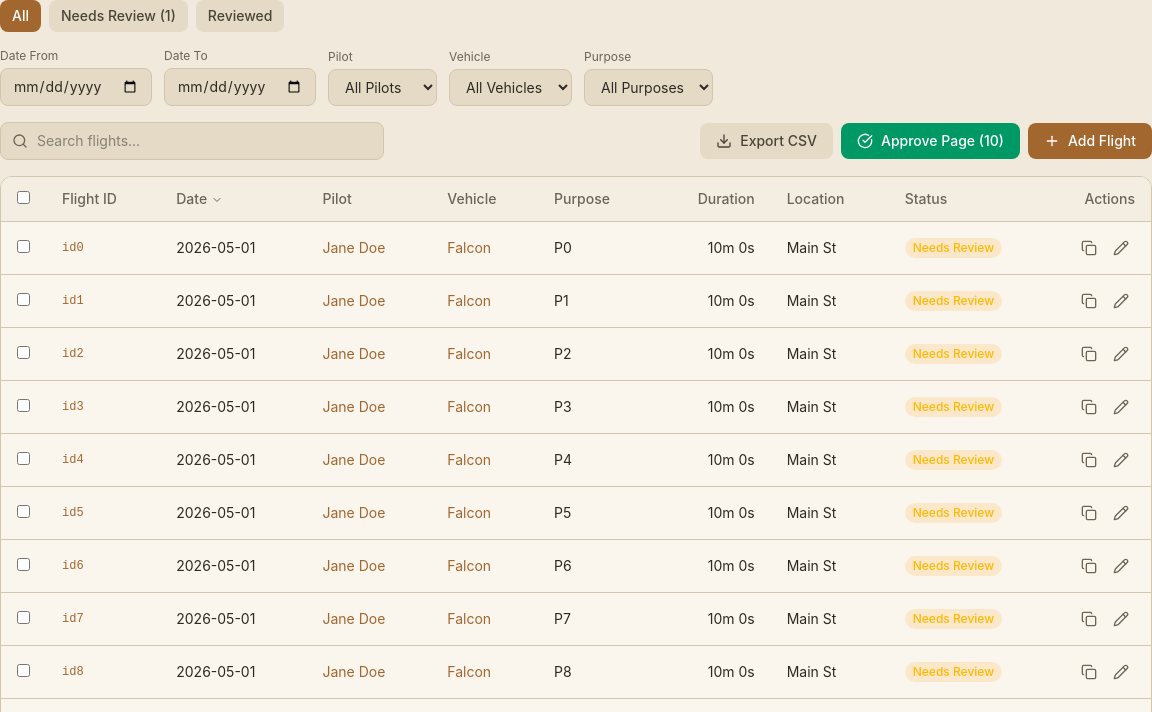
Test: FlightsPage › caps the list of values being replaced
Step 1. Click the checkbox named "Select all flights on this page" → click(24, 198), box [17,191,30,204]
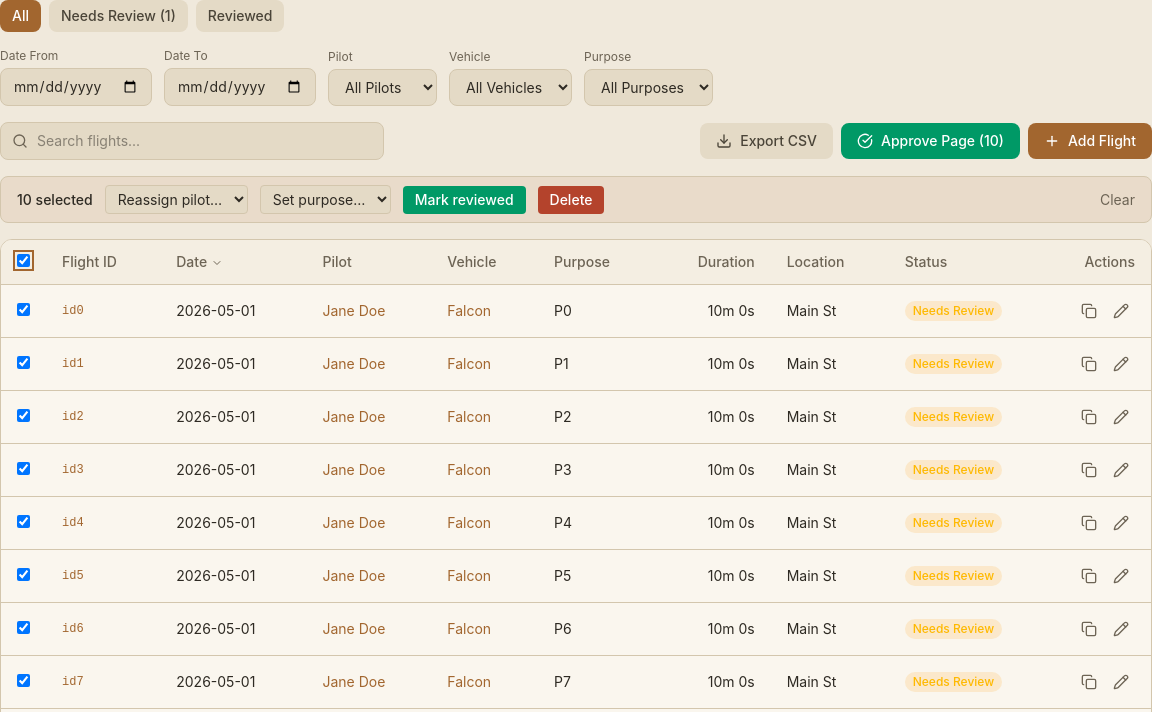
Now the text "10 selected" is shown, box [17,190,93,210]
Step 2. Select "Search" in the dropdown named "Set purpose for selected flights" → (325, 200), box [260,185,391,214]
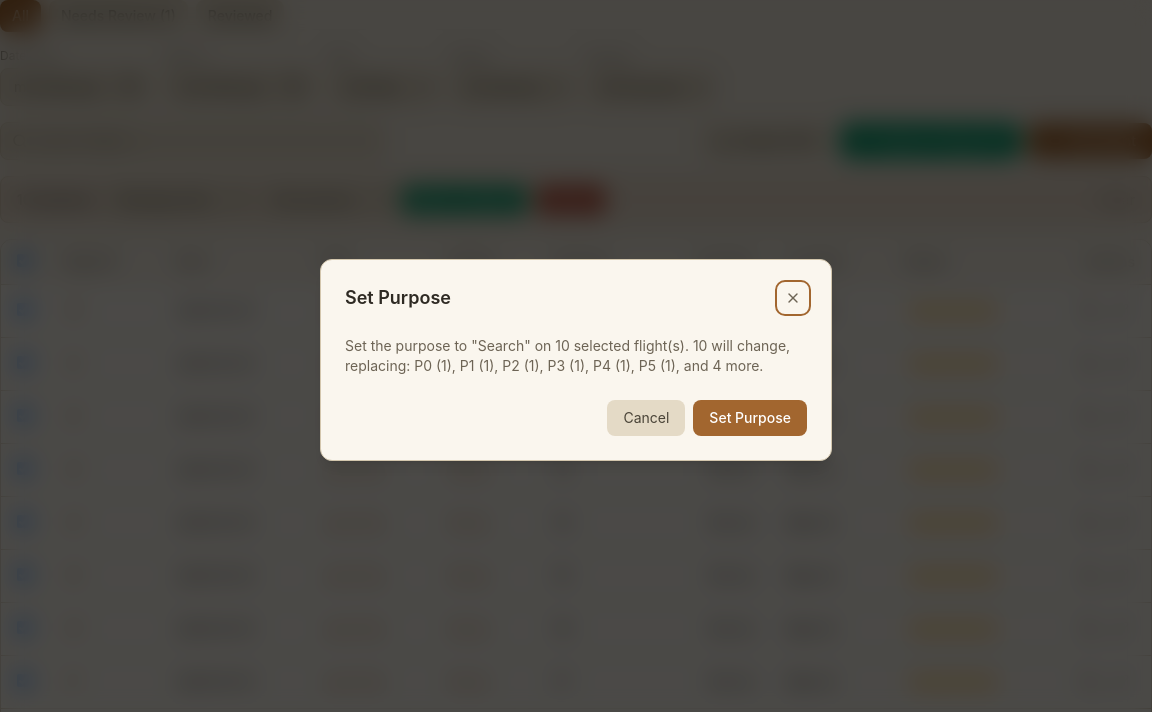
Now the text "10 will change, replacing: P0 (1), P1 (1), P2 (1), P3 (1), P4 (1), P5 (1), and 4 more." is shown, box [345,337,790,374]
